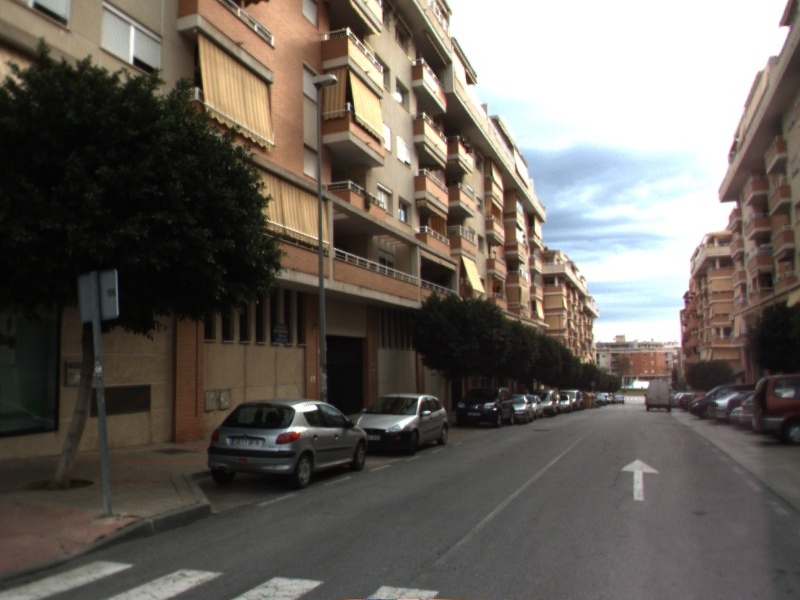STRAIGHT: (619, 457, 662, 502)
